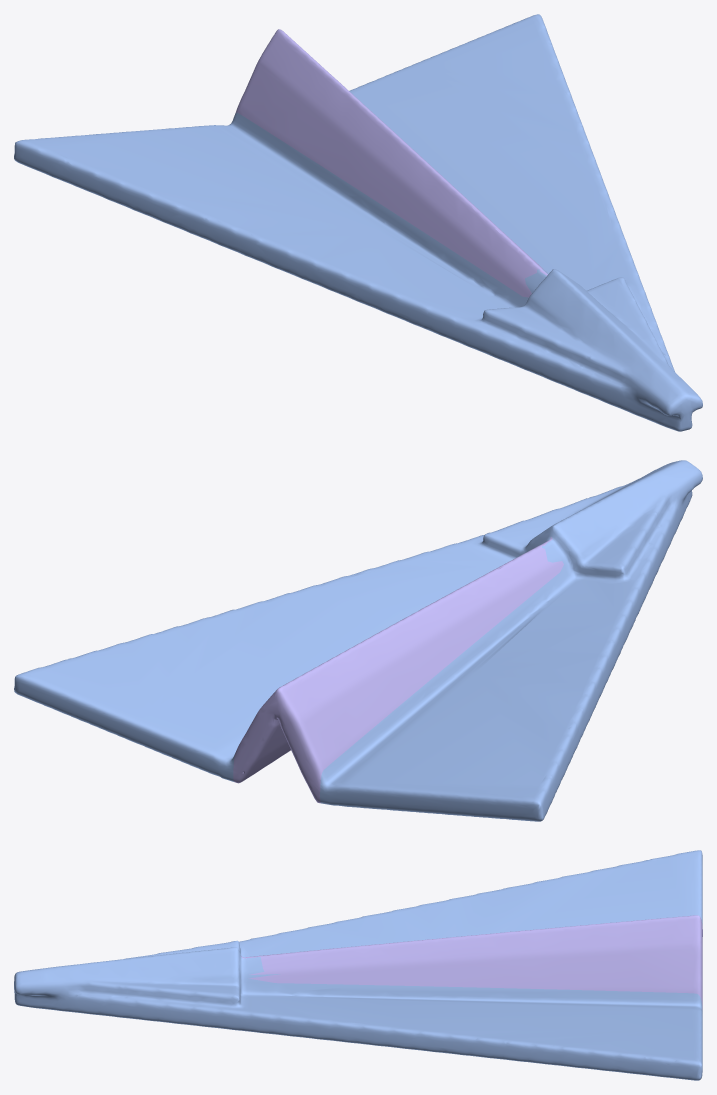
The model's file is clay_airplane.glb.
3 views of the same model, one above another, from view 1: azimuth 30°, elevation 25°; view 2: azimuth 150°, elevation 25°; view 3: azimuth 270°, elevation 25° (orthographic). The views are drawn at different scales.
Parts seen in each view (by area): view 1: ClayAirplane; view 2: ClayAirplane; view 3: ClayAirplane.
Part boxes in pixels (box(x1,y1,x2,y2)): ClayAirplane: box(14, 14, 702, 431); ClayAirplane: box(14, 460, 702, 821); ClayAirplane: box(14, 850, 702, 1080).
Size of the model in its own units: 1.49 by 0.2833 by 2.
